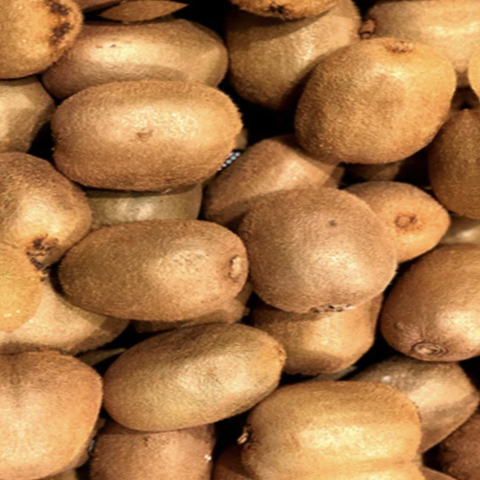kiwi: (31, 64, 255, 211), (227, 174, 412, 350), (100, 299, 304, 457), (272, 19, 470, 180), (42, 205, 264, 340), (239, 358, 434, 480)
